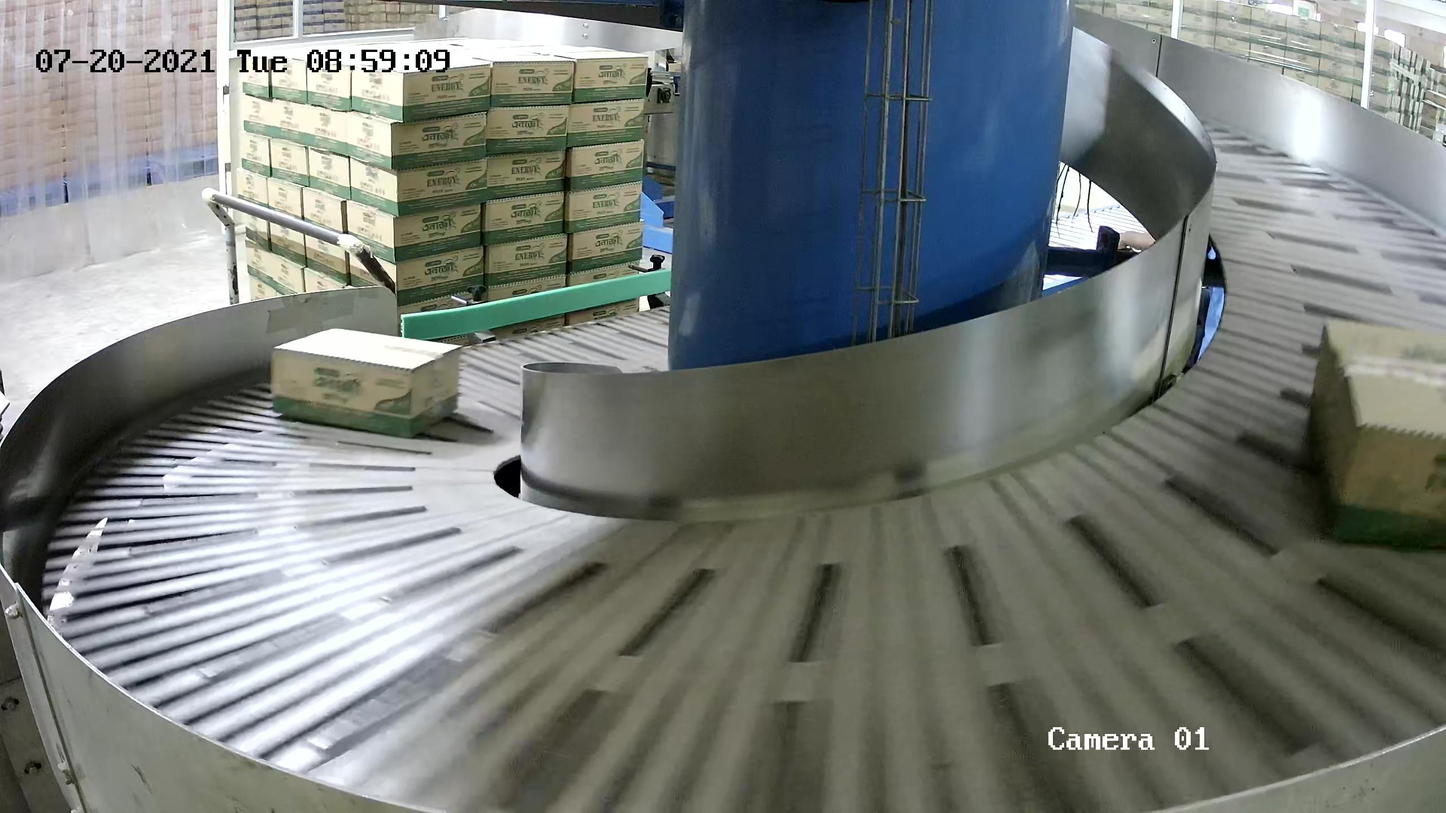Box: (1305, 316, 1446, 545), (269, 327, 464, 439)
